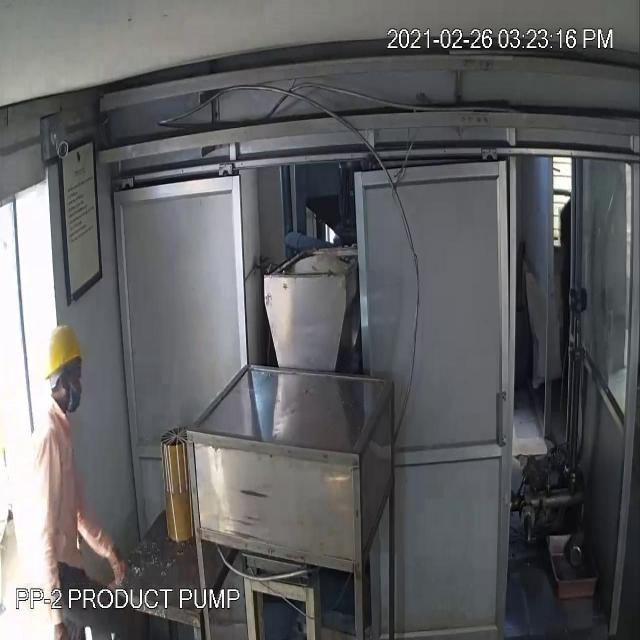hat: (42, 319, 88, 382)
